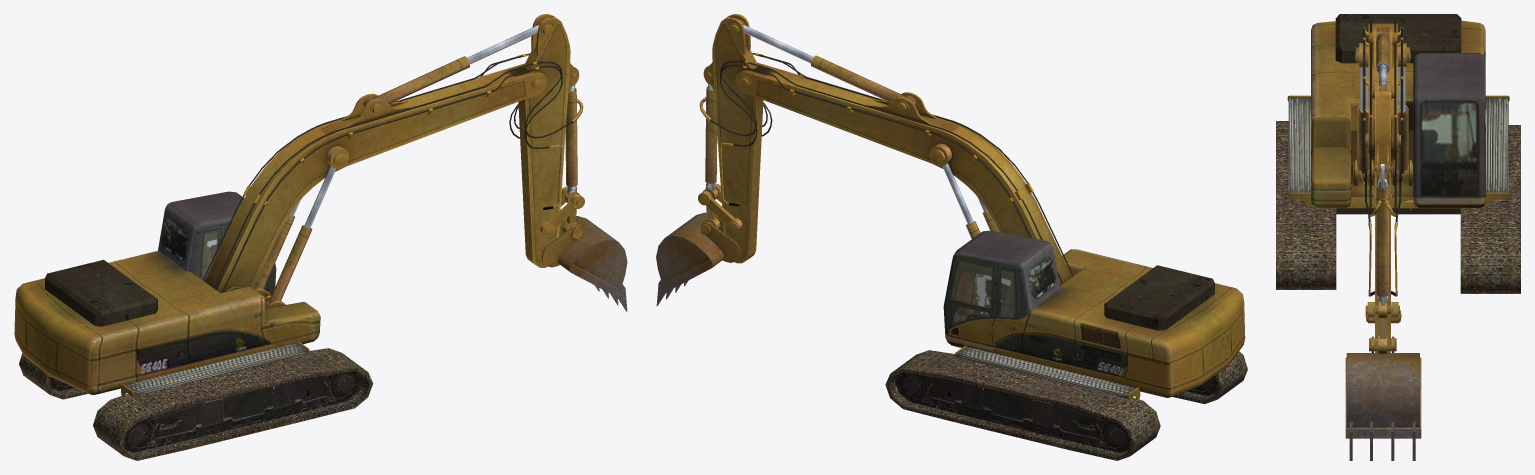
Rendered from excavator.fbx.
3 renders of one model, left to right at view 1: azimuth 30°, elevation 25°; view 2: azimuth 150°, elevation 25°; view 3: azimuth 270°, elevation 25°, orthographic. The views are drawn at different scales.
Visible parts, largest first — view 1: fangchangwatuji; view 2: fangchangwatuji; view 3: fangchangwatuji.
Part boxes in pixels (x1,y1,x2,y2): fangchangwatuji: [14, 14, 627, 460]; fangchangwatuji: [656, 14, 1247, 460]; fangchangwatuji: [1276, 14, 1520, 460].
Bounding box in the file's own units: 9289 × 4720 × 3069.
